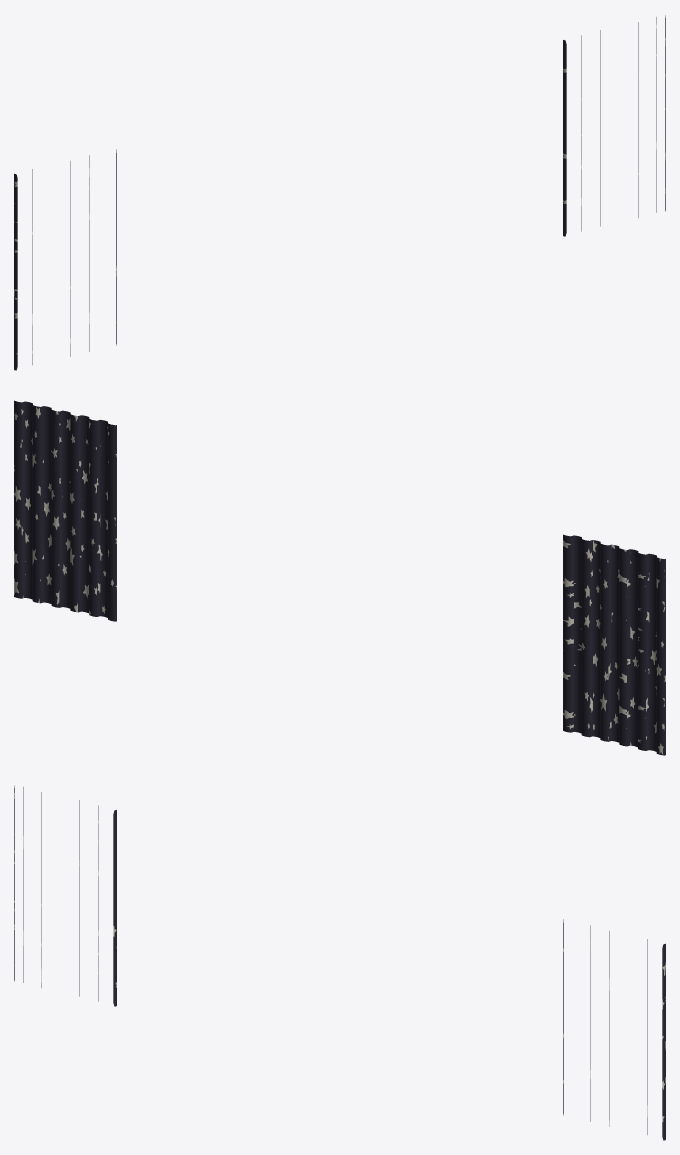
File: cortinas.glb
3 renders of one model, top to bottom at view 1: azimuth 30°, elevation 25°; view 2: azimuth 150°, elevation 25°; view 3: azimuth 330°, elevation 25°, orthographic.
Visible parts, largest first — view 1: cutains; view 2: cutains; view 3: cutains.
Boxes of the visible parts, <box> form: cutains: <box>14,15,665,370</box>; cutains: <box>14,400,665,755</box>; cutains: <box>14,785,665,1140</box>.
Size of the model in its own units: 13.89 by 4 by 0.0958.
Materials: 1 (1 with a texture image).
